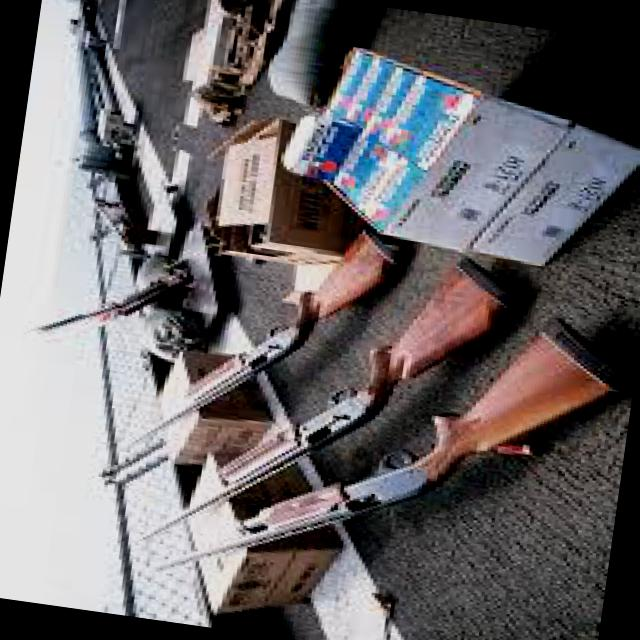long weapon: (122, 312, 632, 590), (124, 252, 530, 551), (76, 202, 409, 490)
